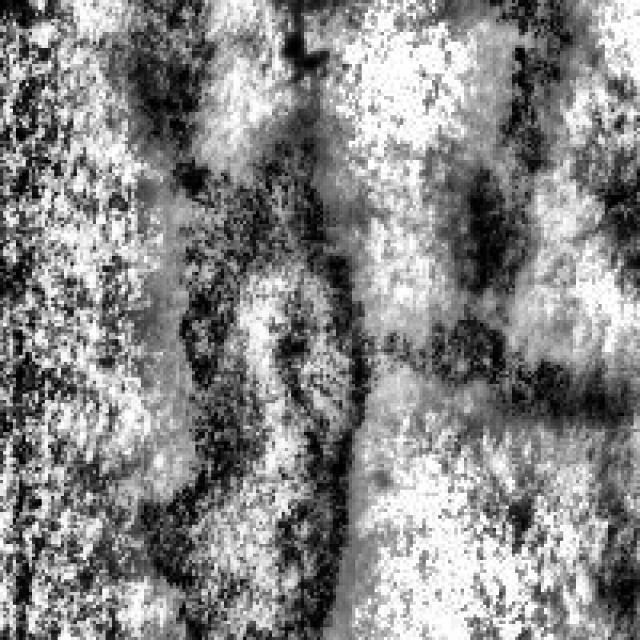Scratches: (131, 99, 384, 634), (396, 0, 633, 422)
